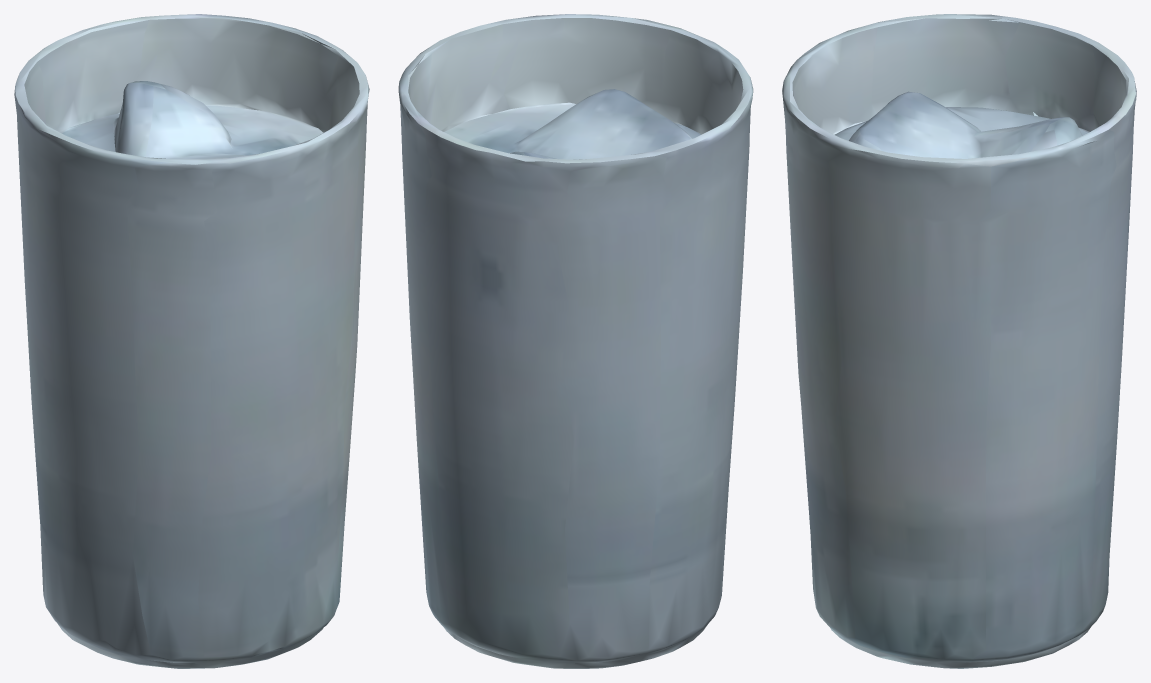
Rendered from water.glb.
The picture shows the model from 3 angles, left to right: view 1: azimuth 30°, elevation 25°; view 2: azimuth 150°, elevation 25°; view 3: azimuth 270°, elevation 25°; orthographic projection.
Visible parts, largest first — view 1: water; view 2: water; view 3: water.
Boxes of the visible parts, x1,y1,x2,y2 form: water: (14,14,369,668); water: (398,14,753,668); water: (782,14,1136,668).
Size of the model in its own units: 0.0795 by 0.13 by 0.0794.
Materials: 1 (1 with a texture image).
